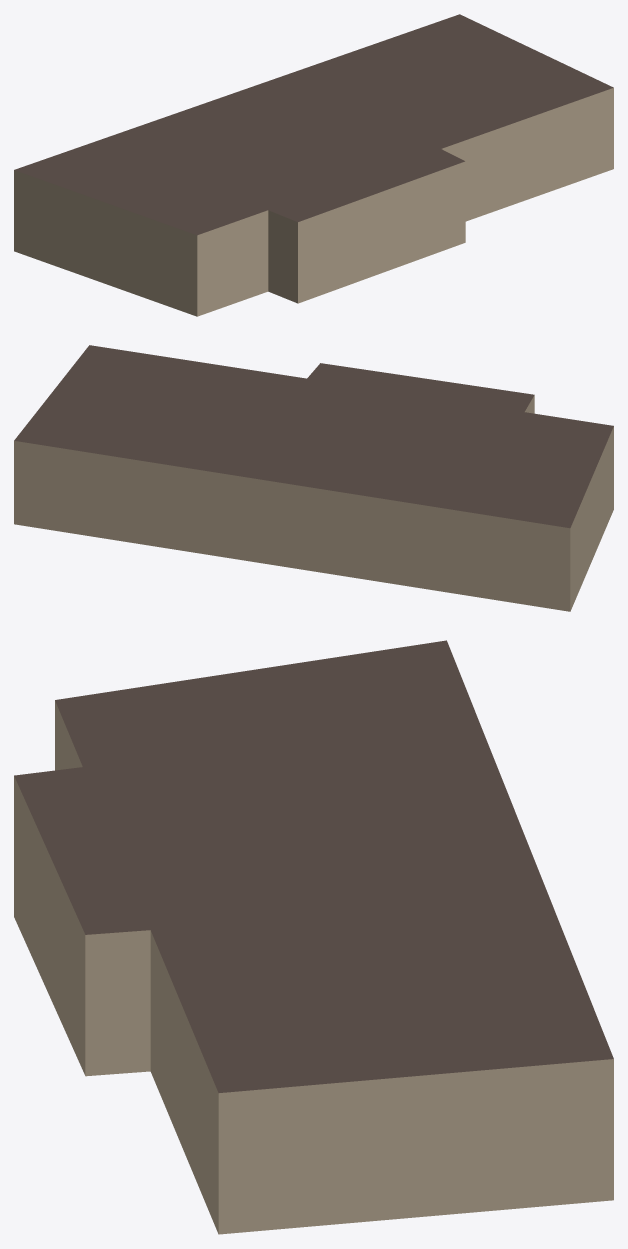
3 views of the same model, one above another, from view 1: azimuth 30°, elevation 25°; view 2: azimuth 150°, elevation 25°; view 3: azimuth 270°, elevation 25° (orthographic). The views are drawn at different scales.
Parts seen in each view (by area): view 1: HP-w682223759; view 2: HP-w682223759; view 3: HP-w682223759.
Part boxes in pixels (x1,y1,x2,y2): HP-w682223759: [14, 14, 613, 316]; HP-w682223759: [14, 345, 613, 611]; HP-w682223759: [14, 640, 613, 1234].
Bounding box in the file's own units: 41.22 × 6 × 23.08.
